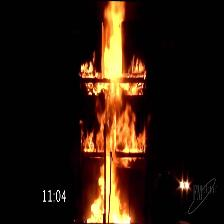fire: (97, 5, 133, 224)
